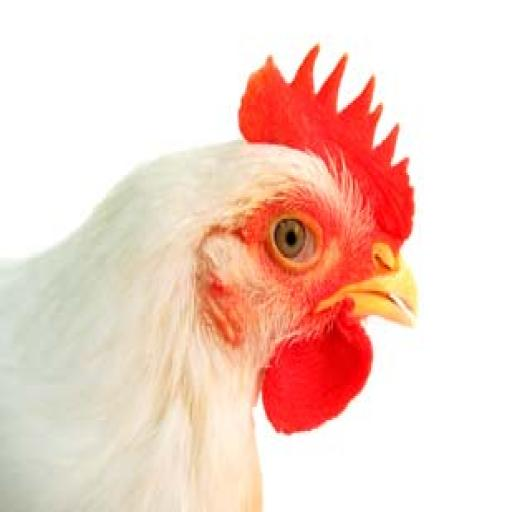healthy: (222, 46, 420, 364)
